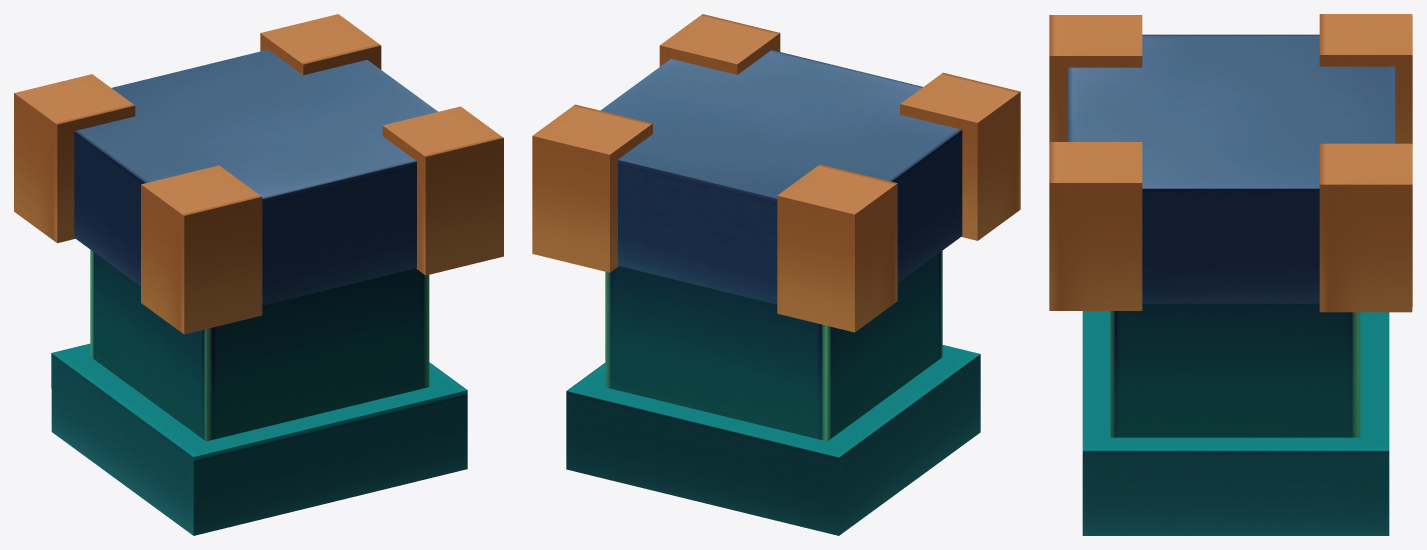
Rendered from ZhuZi_A.fbx.
The picture shows the model from 3 angles, left to right: view 1: azimuth 30°, elevation 25°; view 2: azimuth 150°, elevation 25°; view 3: azimuth 270°, elevation 25°; orthographic projection. The views are drawn at different scales.
Parts seen in each view (by area): view 1: ZhuZi_A; view 2: ZhuZi_A; view 3: ZhuZi_A.
Part boxes in pixels (left/top/right/bottom): ZhuZi_A: left=14, top=14, right=503, bottom=535; ZhuZi_A: left=532, top=14, right=1020, bottom=535; ZhuZi_A: left=1049, top=14, right=1412, bottom=535.
Size of the model in its own units: 0.2278 by 0.2265 by 0.2049.
1 material, 1 textured.
